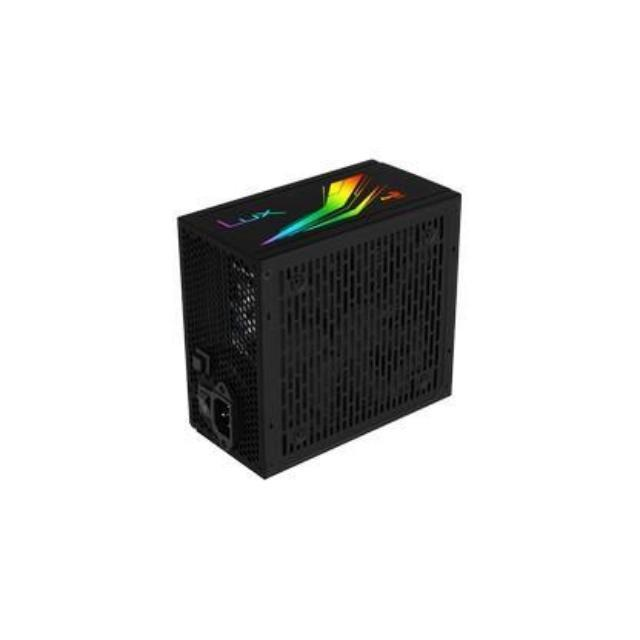PSU: (155, 138, 482, 488)
